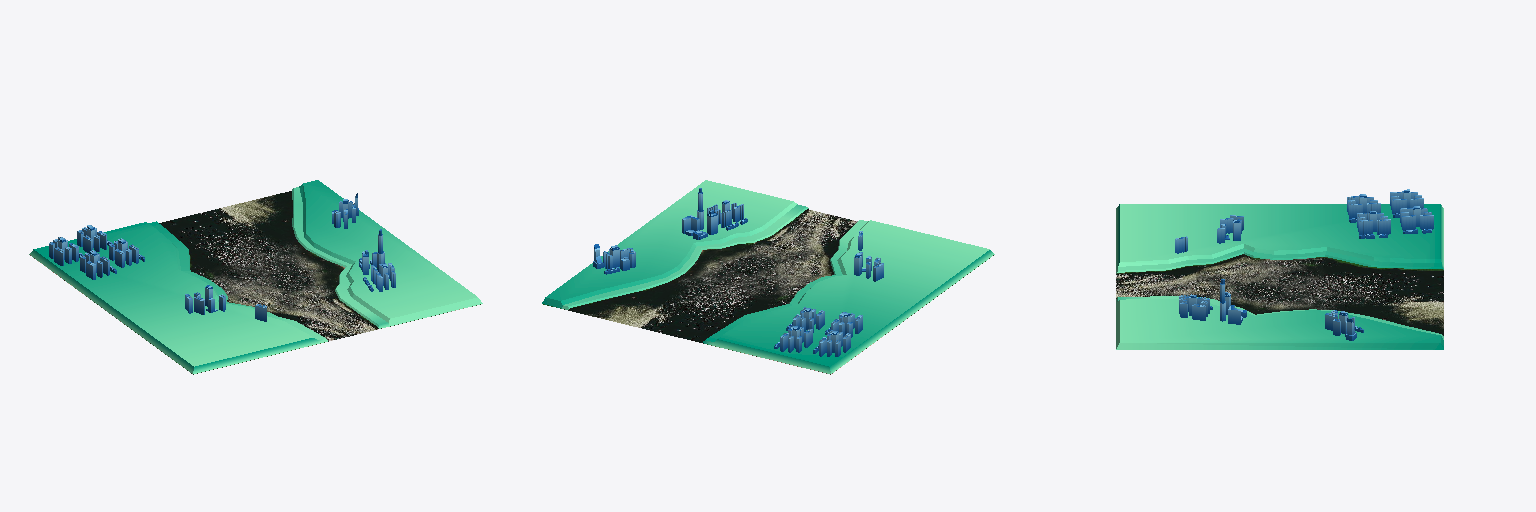
3 renders of one model, left to right at view 1: azimuth 30°, elevation 25°; view 2: azimuth 150°, elevation 25°; view 3: azimuth 270°, elevation 25°, orthographic.
Parts seen in each view (by area): view 1: Plan; view 2: Plan; view 3: Plan.
Part boxes in pixels (x1,y1,x2,y2): Plan: (29,180,482,374); Plan: (542,180,994,374); Plan: (1116,189,1443,349).
Bounding box in the file's own units: 1077 × 166 × 1056.
Materials: 4 (3 with a texture image).